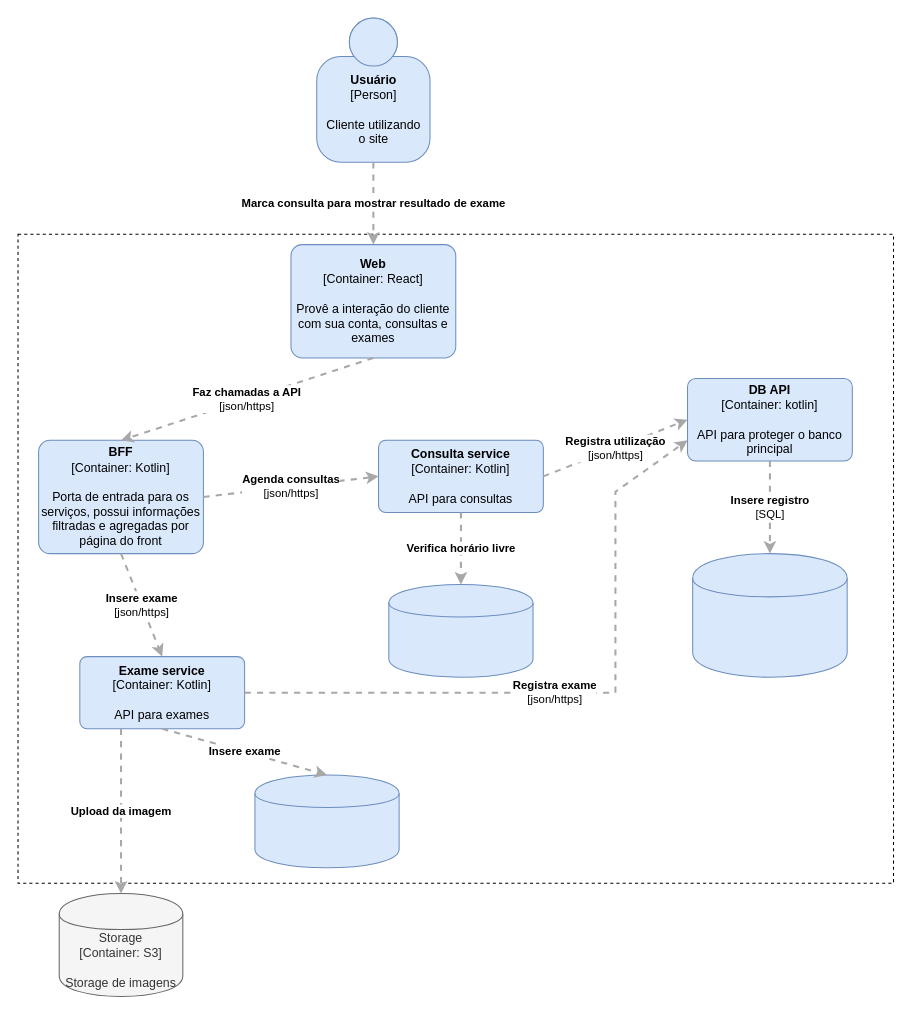
This 912x1015 diagram has some shape labels left out. Here are the shapes that lost their labels. From the top down, the centre of each, then its label:
the point at 460,630: Database [Container: Redis] Base especializada em consultas
the point at 769,615: Database [Container: Postgres] Banco de dados principal
the point at 326,821: Database [Container: MongoDB] Base especializa em exames
